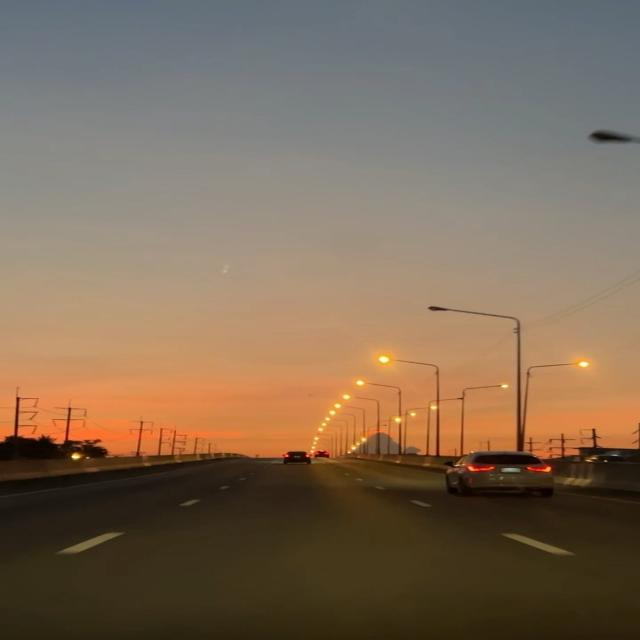Poth-hole: (153, 472, 505, 625)
